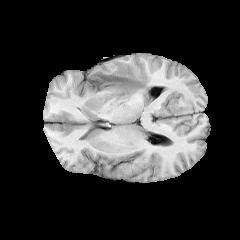glioma: (90, 61, 151, 99)
